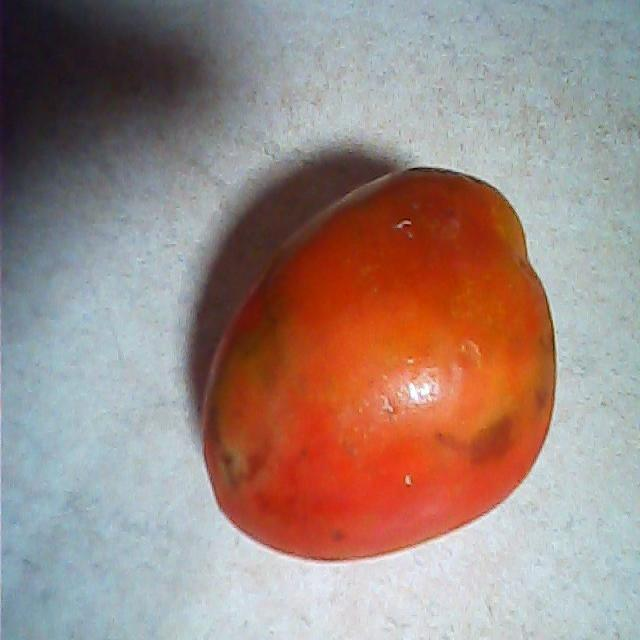defectuoso: (195, 162, 560, 572)
